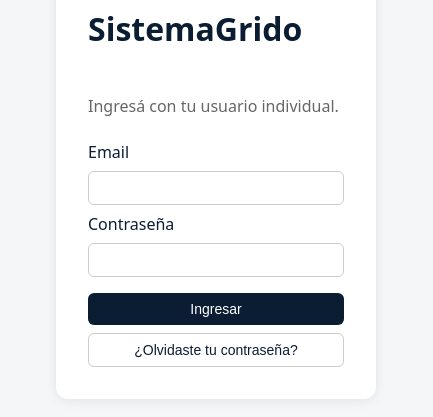
Test: LoginPage › B) "¿Olvidaste tu contraseña?" › permite volver a la pantalla de login
Click the button "¿Olvidaste tu contraseña?". click: (216, 350)
box: [88, 333, 344, 367]
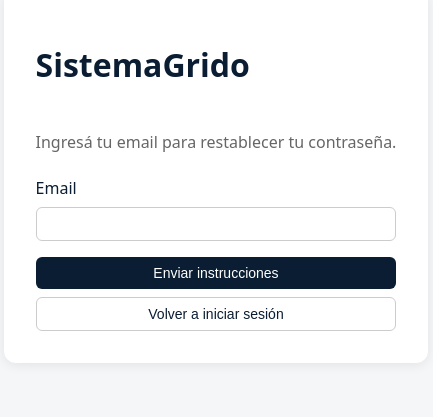
Click the button "Volver a iniciar sesión". click: (216, 314)
box: [36, 297, 396, 331]
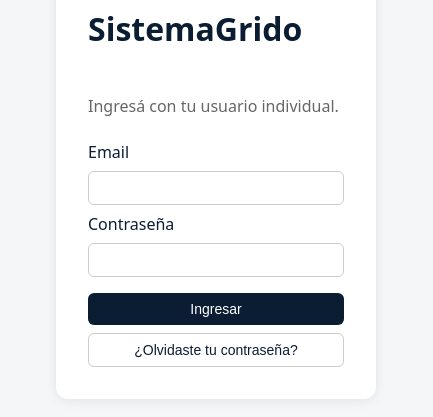
Now the password field labelled "Contraseña" is shown, box [88, 243, 344, 277]
